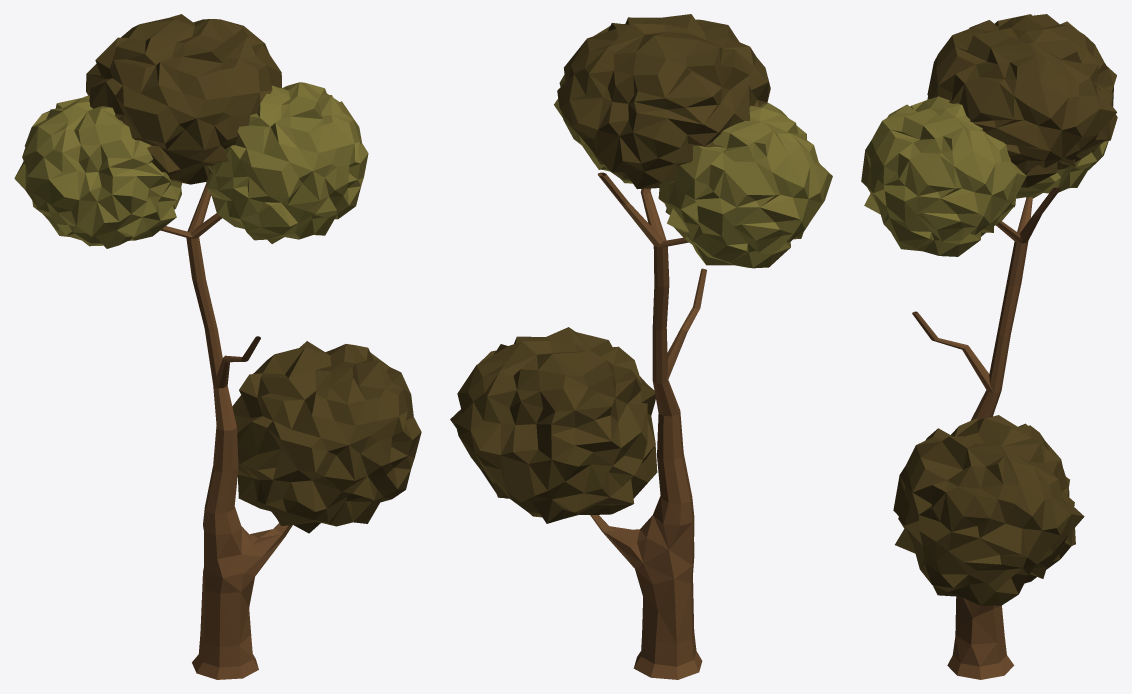
Rendered from Long_tree_dry.fbx.
The picture shows the model from 3 angles, left to right: view 1: azimuth 30°, elevation 25°; view 2: azimuth 150°, elevation 25°; view 3: azimuth 270°, elevation 25°; orthographic projection. The views are drawn at different scales.
Visible parts, largest first — view 1: LongTree; view 2: LongTree; view 3: LongTree.
Boxes of the visible parts, box(x1,y1,x2,y2) form: LongTree: box(14, 14, 421, 679); LongTree: box(450, 14, 832, 679); LongTree: box(861, 14, 1117, 679).
Size of the model in its own units: 480 by 800 by 297.
